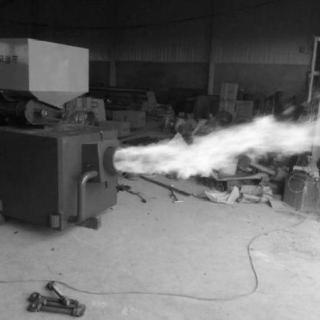Fire: (115, 95, 318, 189)
